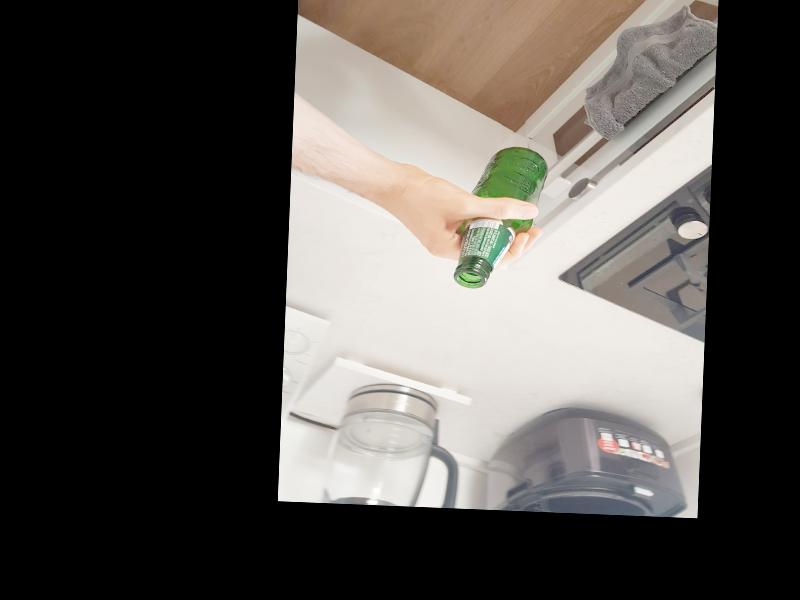Beer: (453, 143, 549, 290)
